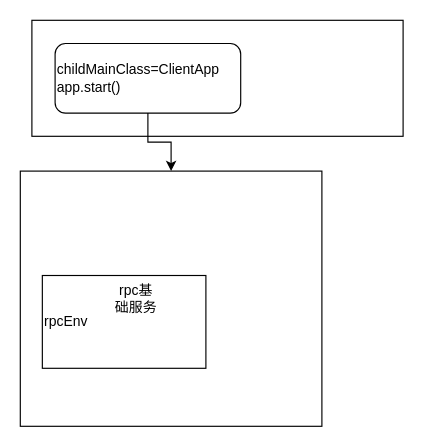
Image size: 423x447. Some labels were removed from this diagram. Each missing label, with the box of its shape:
ClientApp: (19, 170, 322, 426)
spark_submit: (31, 19, 403, 136)
